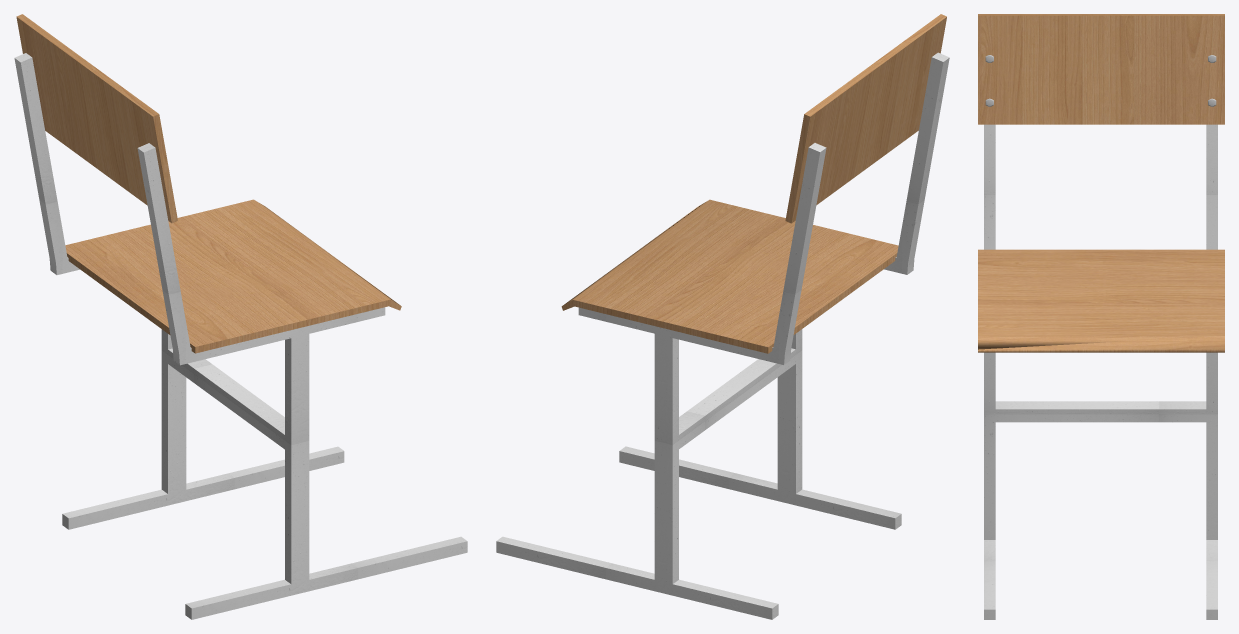
Rendered from chair.fbx.
The picture shows the model from 3 angles, left to right: view 1: azimuth 30°, elevation 25°; view 2: azimuth 150°, elevation 25°; view 3: azimuth 270°, elevation 25°; orthographic projection. The views are drawn at different scales.
Parts seen in each view (by area): view 1: chire; view 2: chire; view 3: chire.
Boxes of the visible parts, x1=… form: chire: x1=14, y1=14, x2=467, y2=619; chire: x1=496, y1=14, x2=949, y2=619; chire: x1=978, y1=14, x2=1224, y2=619.
Bounding box in the file's own units: 14.79 × 22.57 × 10.82.
